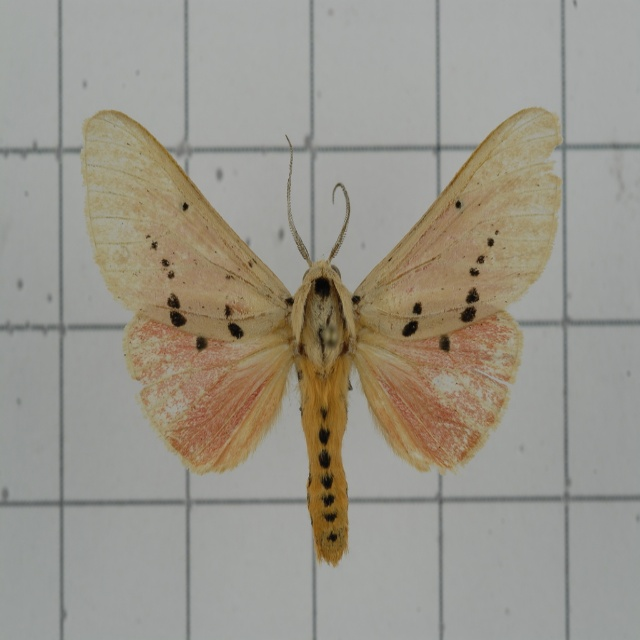Moths and butterflies: (78, 107, 564, 564)
